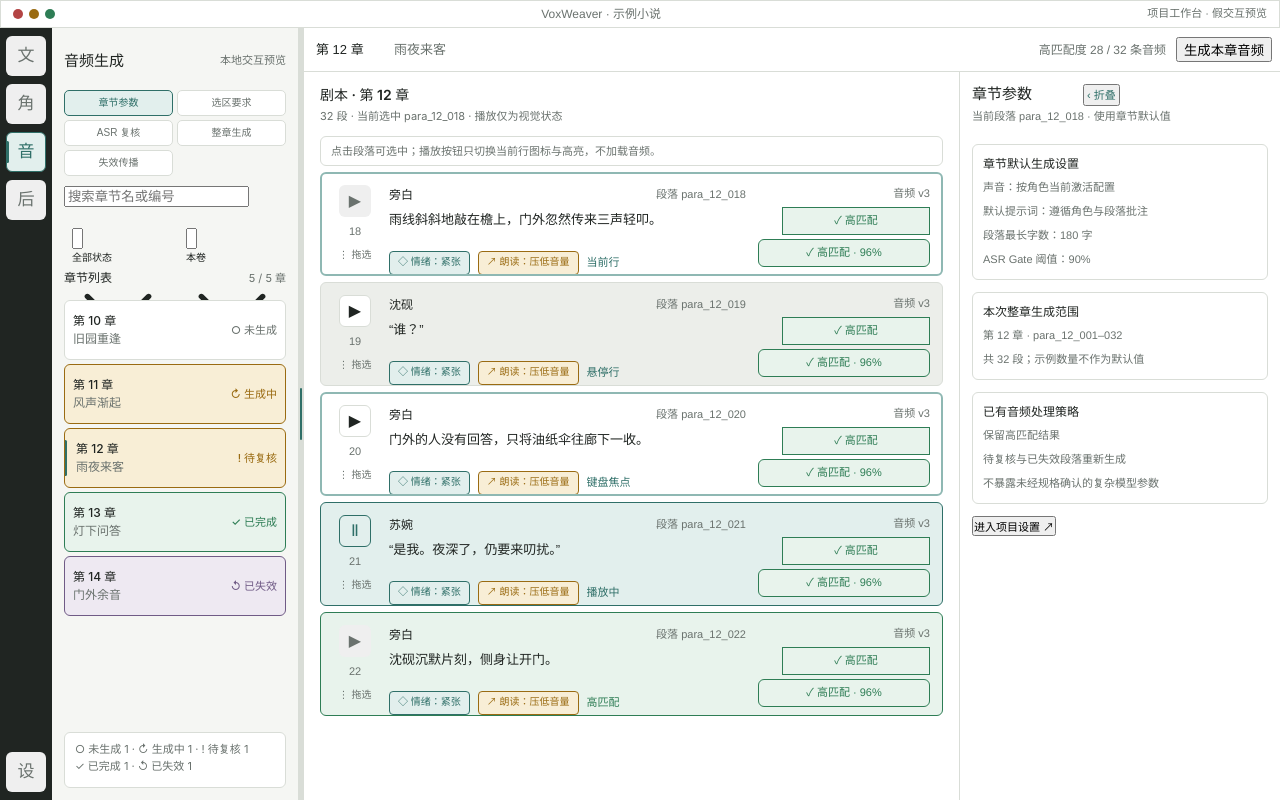
Test: chapter parameters interactions › inspector 可折叠和重新展开
Expected: the element with class "audio-inspector" is shown, [960,72,1279,799]
Click the button with aria-label "折叠章节参数".
click(1101, 95)  # box [1083,84,1120,106]
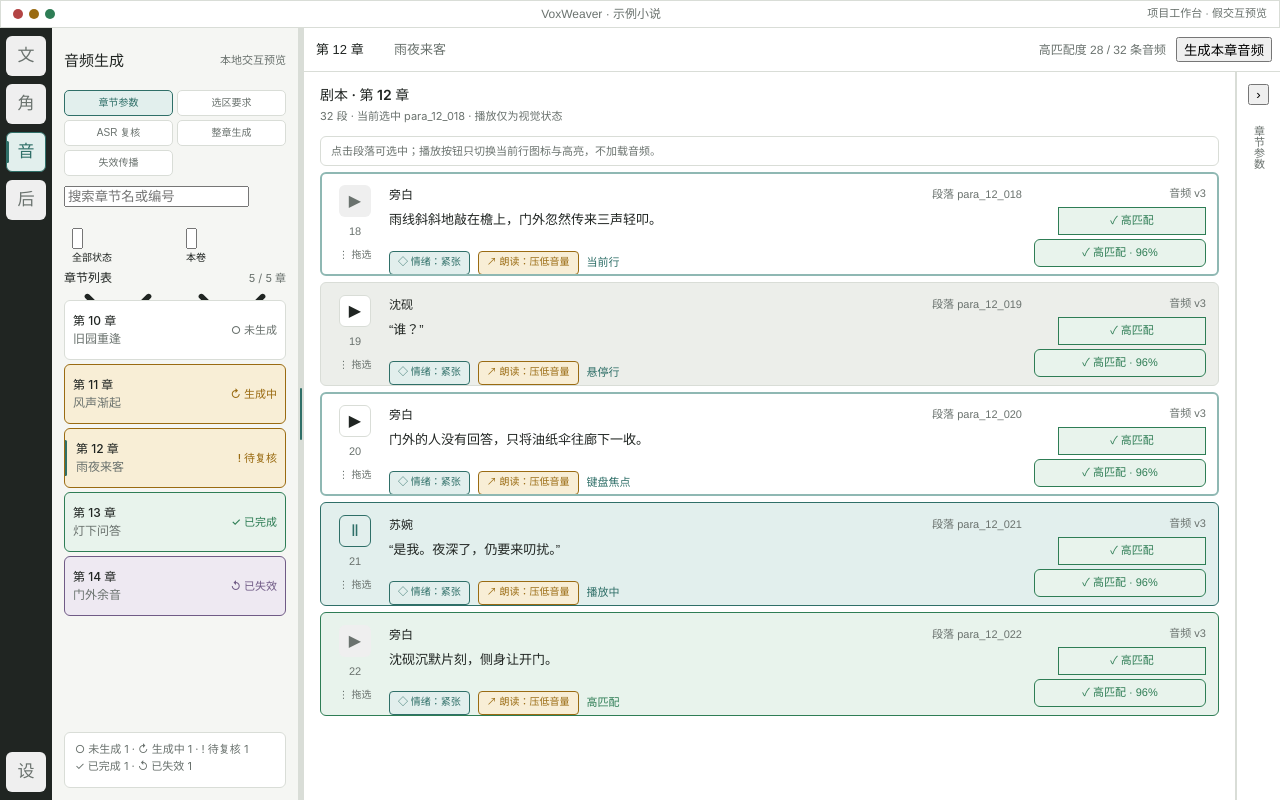
Expected: the element with class "audio-inspector-collapsed" is shown, [1236,72,1279,799]
Click the button named "展开章节参数".
click(1259, 94)  # box [1248,84,1269,105]
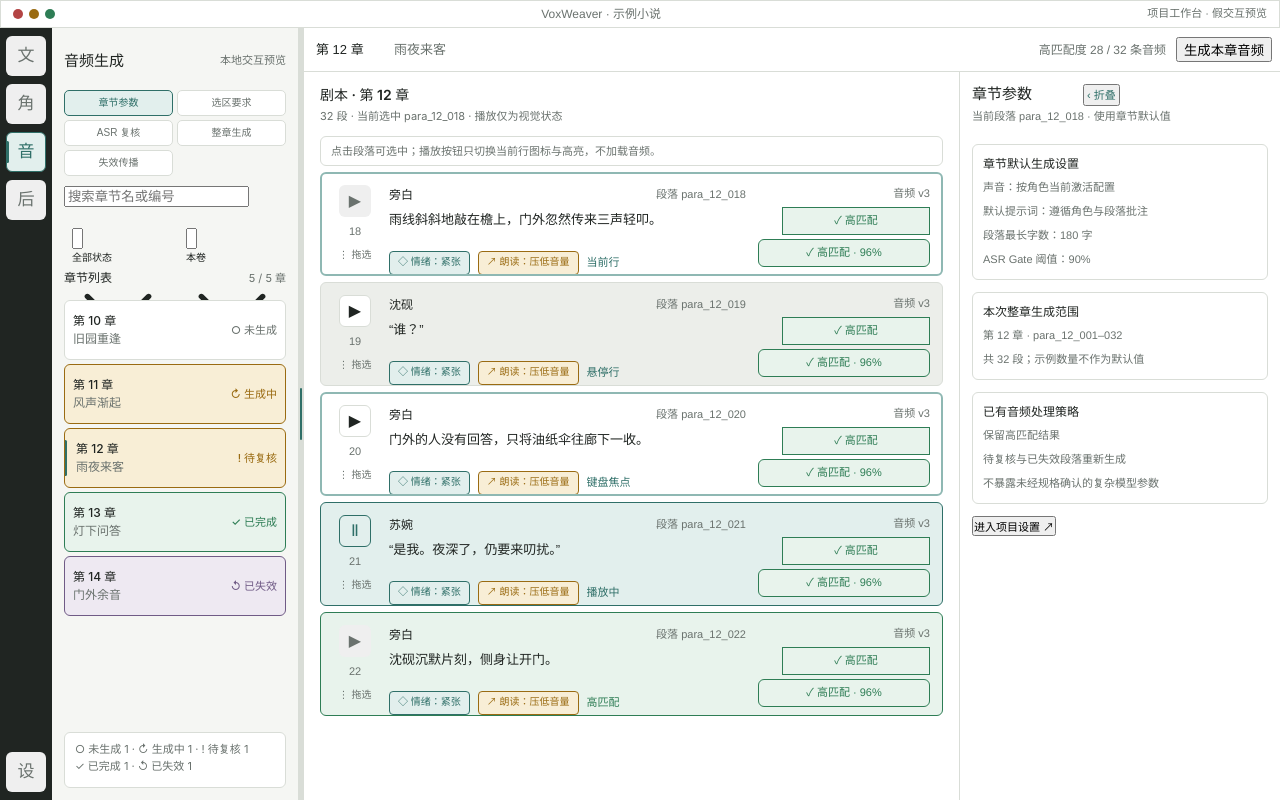
Expected: the element with class "audio-inspector" is shown, [960,72,1279,799]
